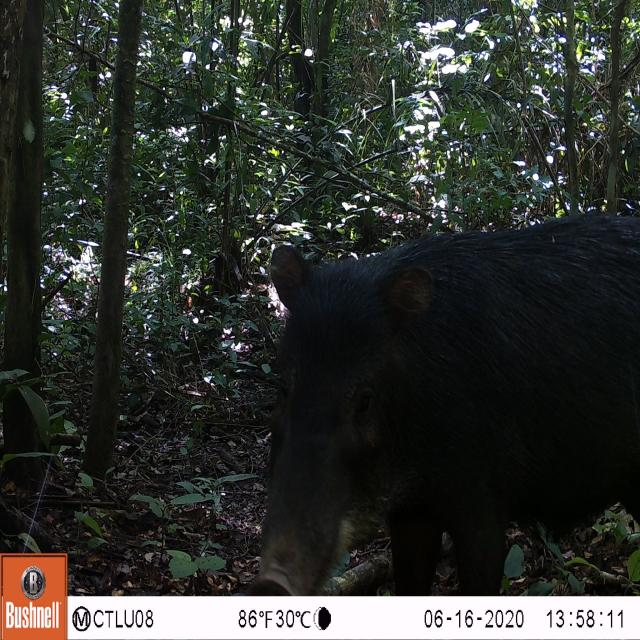Collared Peccary: (241, 198, 640, 598)
